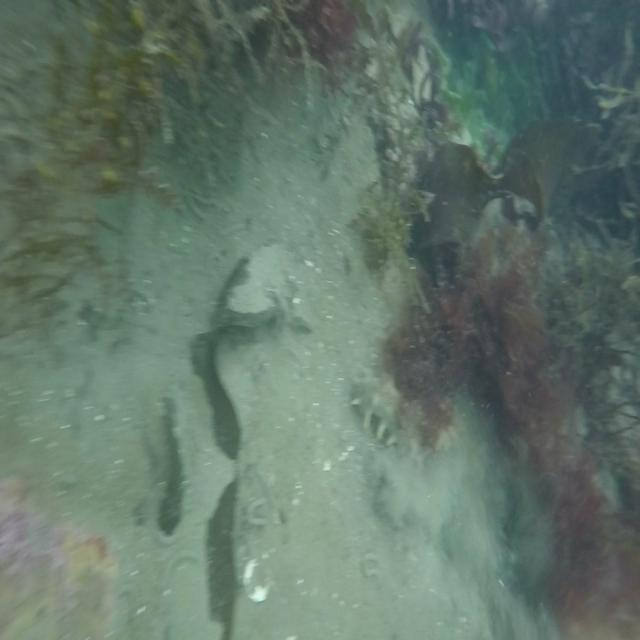holothurian: (346, 370, 423, 466)
